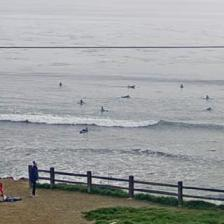surfer: (80, 127, 88, 133), (100, 106, 107, 112), (78, 99, 84, 104), (121, 94, 131, 97), (205, 94, 209, 100), (128, 85, 135, 88), (180, 84, 184, 89), (206, 107, 211, 111), (60, 82, 62, 86)
